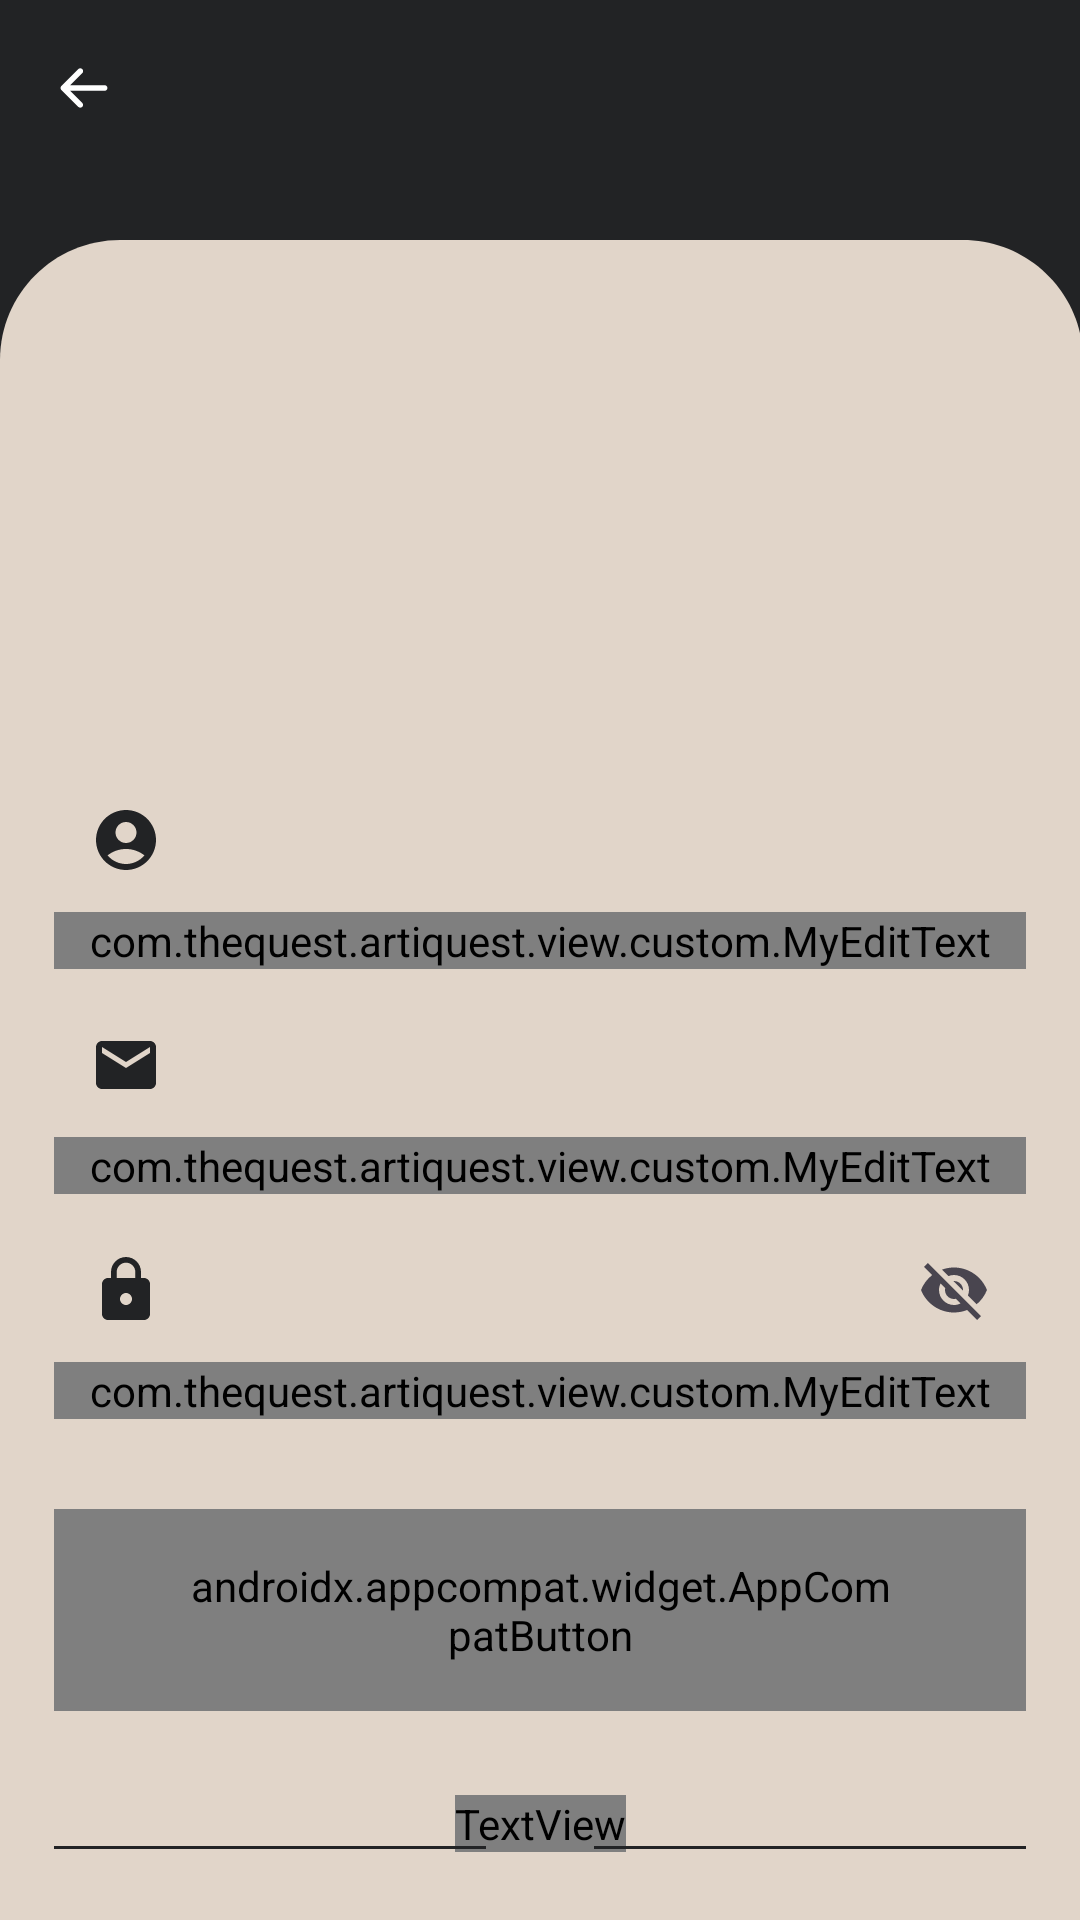

Where to tap for icons on this 1080 × 1920 app screen, as point (x, y):
Back: point (84, 88)
